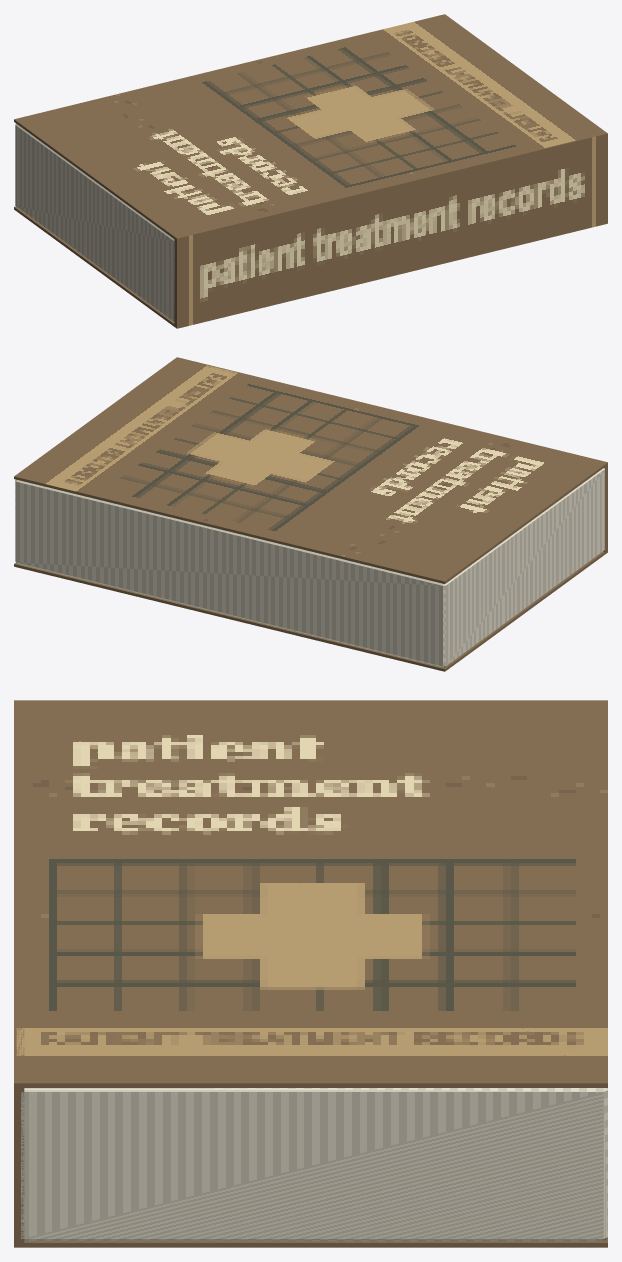
The model's file is record_patient.glb.
The picture shows the model from 3 angles, top to bottom: view 1: azimuth 30°, elevation 25°; view 2: azimuth 150°, elevation 25°; view 3: azimuth 270°, elevation 25°; orthographic projection. The views are drawn at different scales.
Visible parts, largest first — view 1: block_front, block_spine, block_pages, block_back; view 2: block_front, block_pages, block_back, block_spine; view 3: block_front, block_pages, block_spine, block_back.
Part boxes in pixels (x1,y1,x2,y2): block_front: [14, 14, 606, 239]; block_spine: [174, 133, 607, 328]; block_pages: [15, 123, 174, 322]; block_back: [14, 206, 176, 326]; block_front: [14, 357, 606, 583]; block_pages: [15, 468, 604, 667]; block_back: [14, 551, 604, 671]; block_spine: [175, 357, 607, 554]; block_front: [16, 700, 607, 1087]; block_pages: [21, 1088, 607, 1241]; block_spine: [14, 700, 24, 1247]; block_back: [16, 1237, 607, 1247].
Bounding box in the file's own units: 0.2827 × 0.0565 × 0.1853.
1 material, 1 textured.
